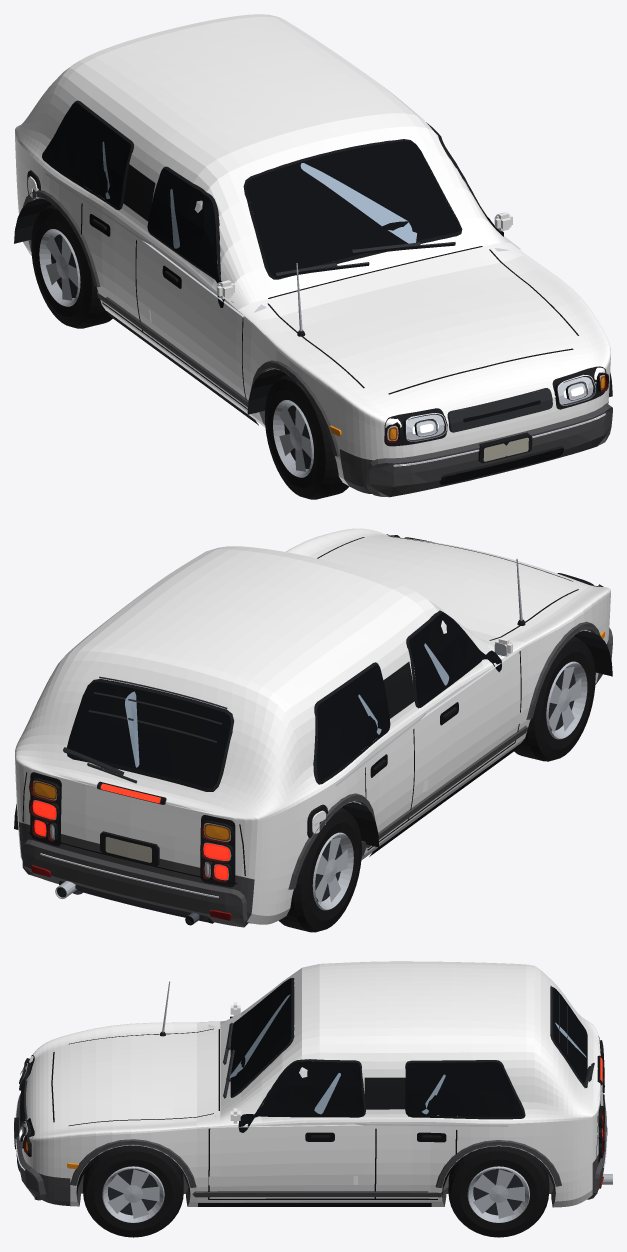
Rendered from cuiabano.glb.
3 renders of one model, top to bottom at view 1: azimuth 30°, elevation 25°; view 2: azimuth 150°, elevation 25°; view 3: azimuth 270°, elevation 25°, orthographic. The views are drawn at different scales.
Visible parts, largest first — view 1: body, vidro, parachoque_frente, wheel_fr, wheel_rr, lamp_head, grade, reflexo_vidro, details, alargamento_r, wheel_wells, friso_lateral_r (+3 smaller); view 2: body, vidro, parachoque_tras, wheel_rr, wheel_fr, lamp_tail, details, alargamento_r, wheel_wells, placa_tras, friso_lateral_r, reflexo_vidro (+3 smaller); view 3: body, vidro, wheel_rl, wheel_fl, details, alargamento_l, friso_lateral_l, reflexo_vidro, parachoque_frente, wheel_wells, fresta_porta, lamp_head (+5 smaller).
Boxes of the visible parts, x1,y1,x2,y2 form: body: (15, 14, 610, 493); vidro: (42, 100, 497, 307); parachoque_frente: (365, 403, 612, 497); wheel_fr: (264, 374, 349, 499); wheel_rr: (31, 204, 112, 328); lamp_head: (384, 366, 608, 446); grade: (447, 388, 552, 432); reflexo_vidro: (102, 141, 416, 248); details: (45, 173, 520, 425); alargamento_r: (23, 190, 340, 456); wheel_wells: (14, 198, 612, 414); friso_lateral_r: (97, 292, 257, 413); body: (15, 528, 610, 924); vidro: (67, 610, 501, 791); parachoque_tras: (22, 839, 248, 927); wheel_rr: (279, 807, 361, 932); wheel_fr: (514, 636, 595, 761); lamp_tail: (29, 772, 235, 887); details: (335, 640, 522, 856); alargamento_r: (288, 621, 600, 889); wheel_wells: (14, 630, 612, 847); placa_tras: (100, 831, 159, 866); friso_lateral_r: (361, 725, 527, 847); reflexo_vidro: (125, 643, 449, 767); body: (21, 961, 603, 1207); vidro: (230, 978, 587, 1132); wheel_rl: (448, 1147, 549, 1237); wheel_fl: (83, 1147, 183, 1237); details: (198, 1021, 508, 1206); alargamento_l: (70, 1139, 561, 1187); friso_lateral_l: (192, 1174, 449, 1197); reflexo_vidro: (230, 994, 586, 1114); parachoque_frente: (15, 1093, 46, 1200); wheel_wells: (77, 1145, 555, 1196); fresta_porta: (208, 1128, 457, 1199); lamp_head: (19, 1055, 34, 1156).
Bounding box in the file's own units: 1.98 × 1.62 × 4.46.
